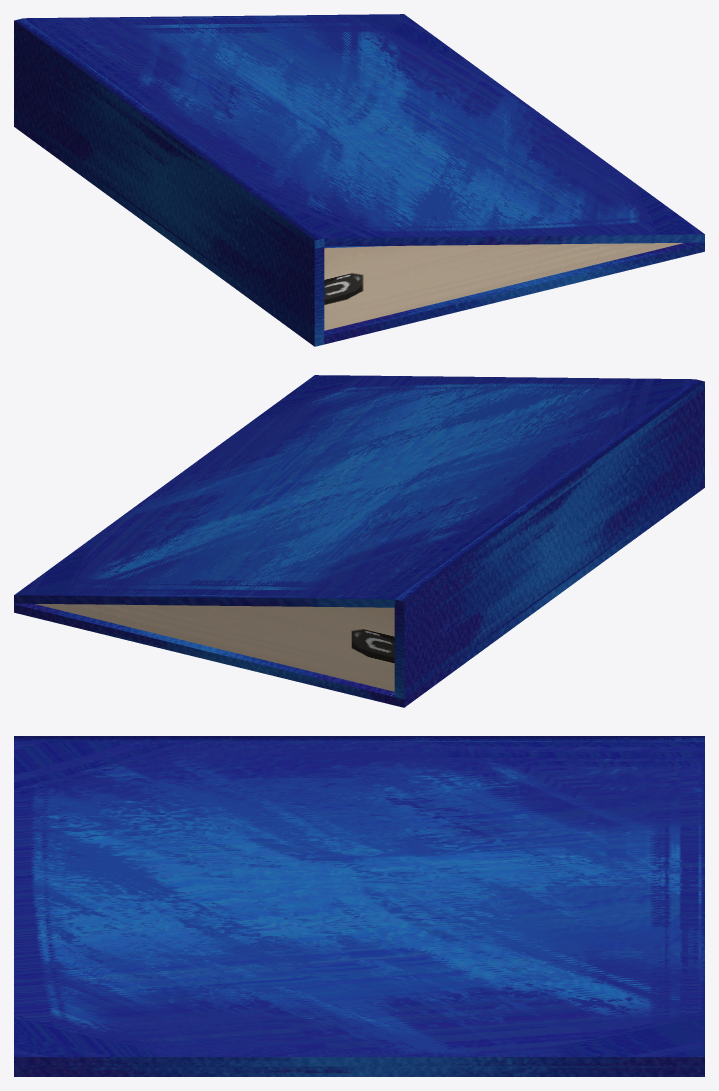
Rendered from binder final.fbx.
The picture shows the model from 3 angles, top to bottom: view 1: azimuth 30°, elevation 25°; view 2: azimuth 150°, elevation 25°; view 3: azimuth 270°, elevation 25°; orthographic projection. The views are drawn at different scales.
Visible parts, largest first — view 1: Cube.002; view 2: Cube.002; view 3: Cube.002.
Boxes of the visible parts, left/top/right/bottom form: Cube.002: left=14, top=14, right=704, bottom=346; Cube.002: left=14, top=375, right=704, bottom=707; Cube.002: left=14, top=736, right=704, bottom=1076.
Bounding box in the file's own units: 344 × 89.47 × 459.
Materials: 1 (1 with a texture image).
